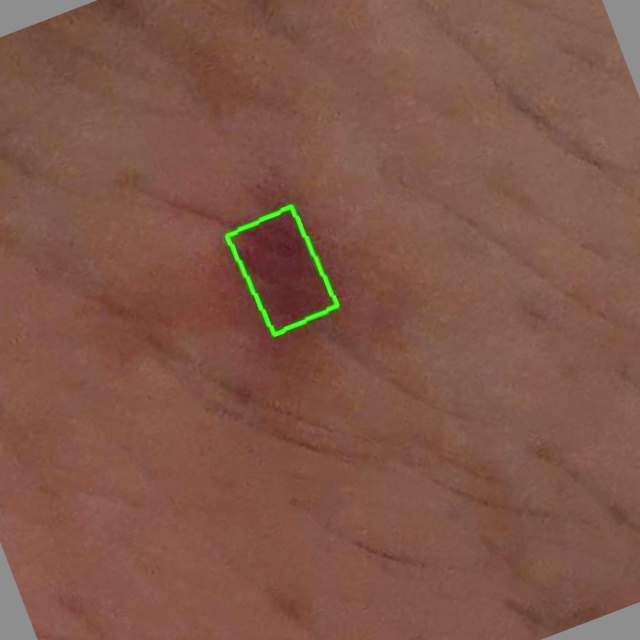Contact Dermatitis: (226, 206, 337, 335)
